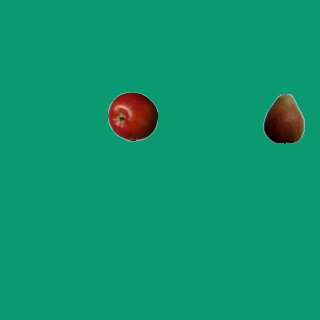Apple Braeburn: (107, 91, 157, 141)
Pear Forelle: (258, 93, 308, 143)
